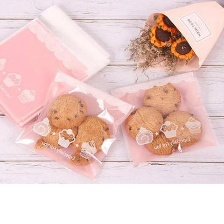snack: (10, 64, 141, 182), (105, 67, 224, 171)
